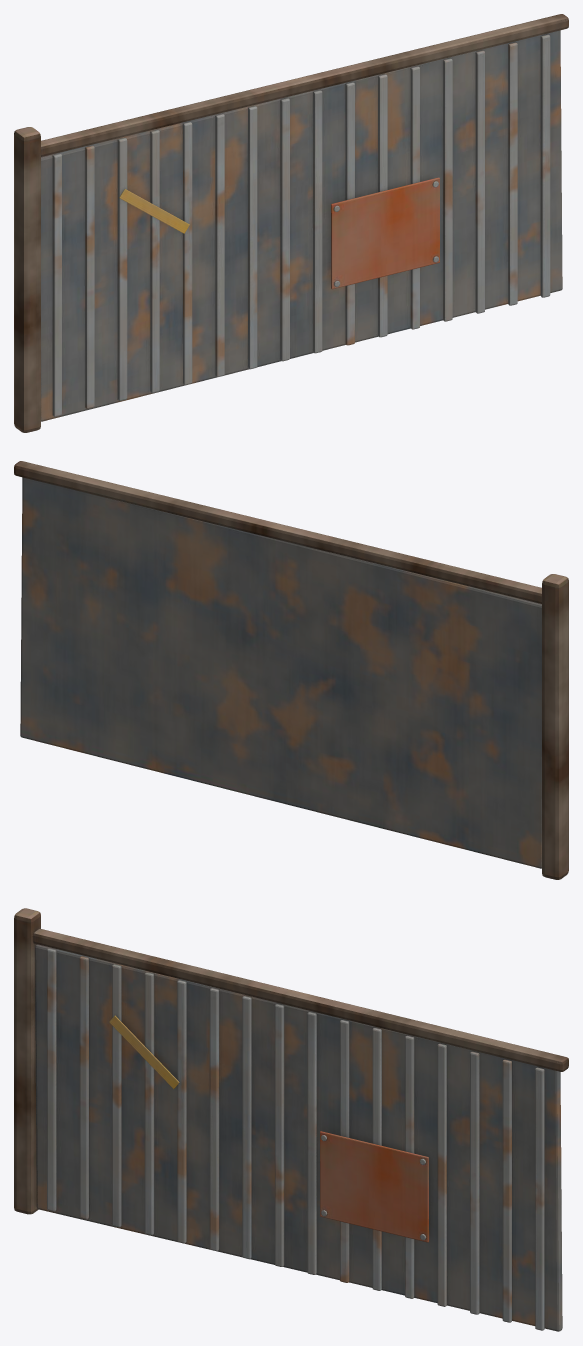
Rendered from fence_tall_a.glb.
3 views of the same model, one above another, from view 1: azimuth 30°, elevation 25°; view 2: azimuth 150°, elevation 25°; view 3: azimuth 330°, elevation 25° (orthographic).
Parts seen in each view (by area): view 1: FenceTall_Mesh; view 2: FenceTall_Mesh; view 3: FenceTall_Mesh.
Part boxes in pixels (box(x1,y1,x2,y2)): FenceTall_Mesh: box(14, 14, 568, 432); FenceTall_Mesh: box(14, 461, 568, 879); FenceTall_Mesh: box(14, 908, 568, 1331).
Size of the model in its own units: 4.04 by 2.1 by 0.1586.
1 material, 1 textured.
